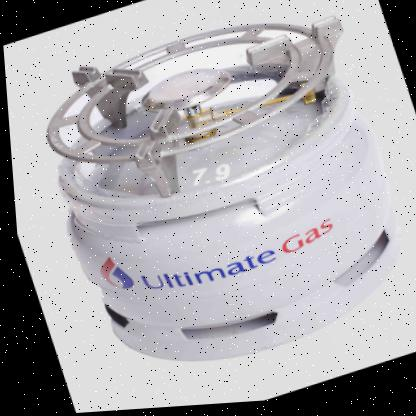gas-tank: (17, 18, 415, 413)
